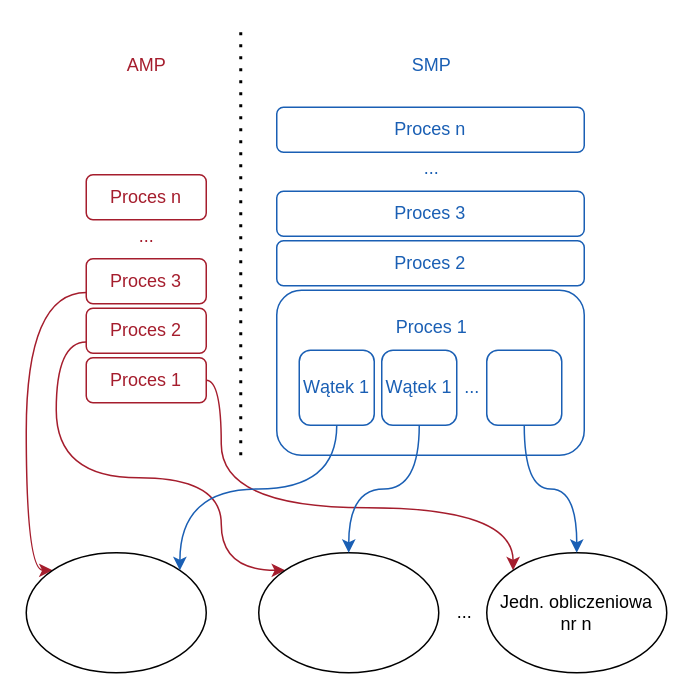
Some shapes in this 693 by 699 pixel diagram are drawn without their labels. The box of each missing label's shape, as (x1, y1, x2, y2) in pixels:
Jedn. obliczeniowa nr 1: (25, 551, 206, 673)
Jedn. obliczeniowa nr 2: (257, 551, 439, 673)
Wątek n: (485, 349, 562, 425)
